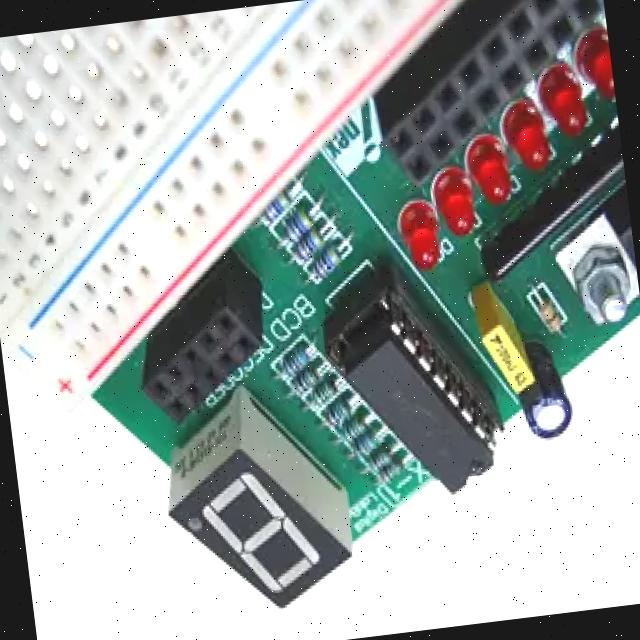IC: (334, 296, 502, 502)
led: (388, 194, 453, 274), (530, 63, 594, 134), (461, 125, 516, 204), (499, 98, 554, 176), (426, 161, 480, 237)
